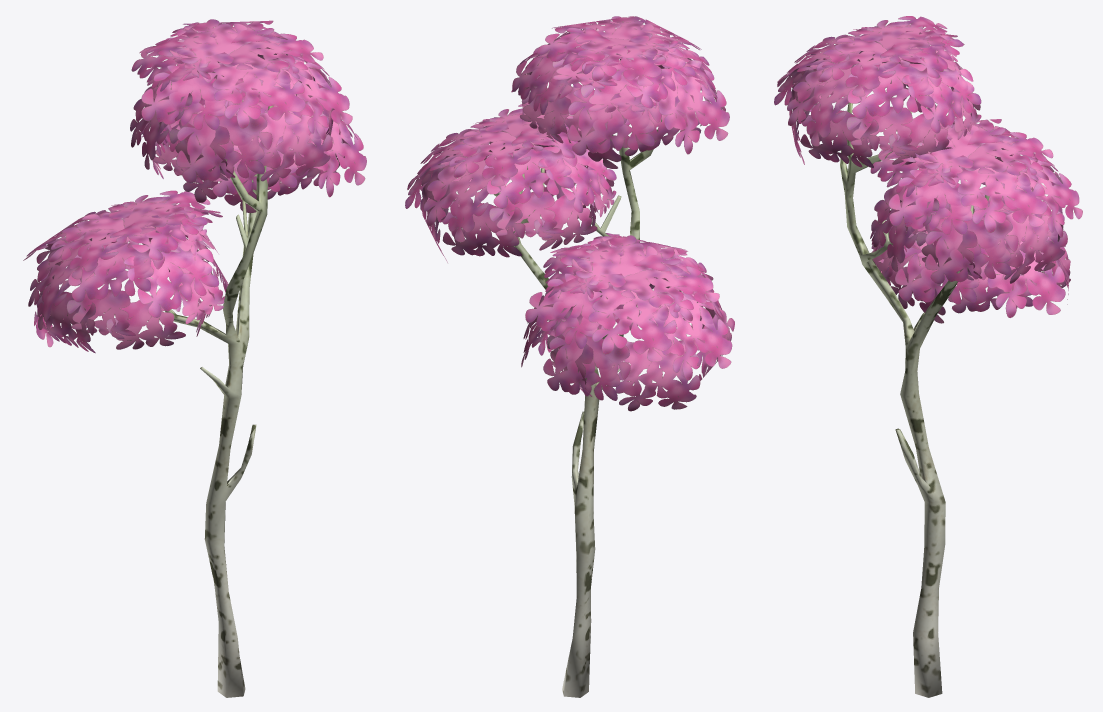
Rendered from Trees-Stylized-cherry-blossom.fbx.
3 views of the same model, side by side, from view 1: azimuth 30°, elevation 25°; view 2: azimuth 150°, elevation 25°; view 3: azimuth 270°, elevation 25° (orthographic). The views are drawn at different scales.
Parts seen in each view (by area): view 1: Tree_02_f_LOD0; view 2: Tree_02_f_LOD0; view 3: Tree_02_f_LOD0.
Boxes of the visible parts, x1,y1,x2,y2 form: Tree_02_f_LOD0: (23, 19, 366, 697); Tree_02_f_LOD0: (405, 16, 734, 697); Tree_02_f_LOD0: (774, 16, 1082, 697).
Bounding box in the file's own units: 303 × 613 × 277.
Materials: 2 (2 with a texture image).
